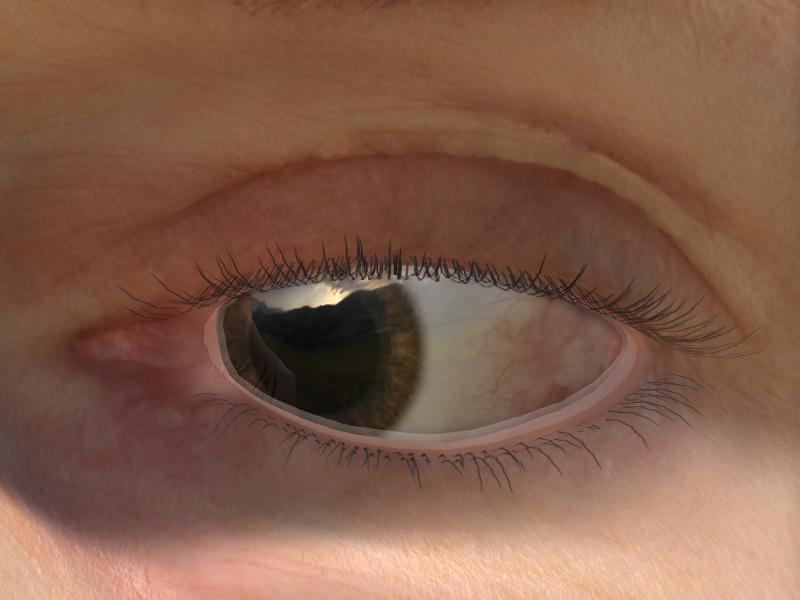eye: (225, 271, 429, 447)
